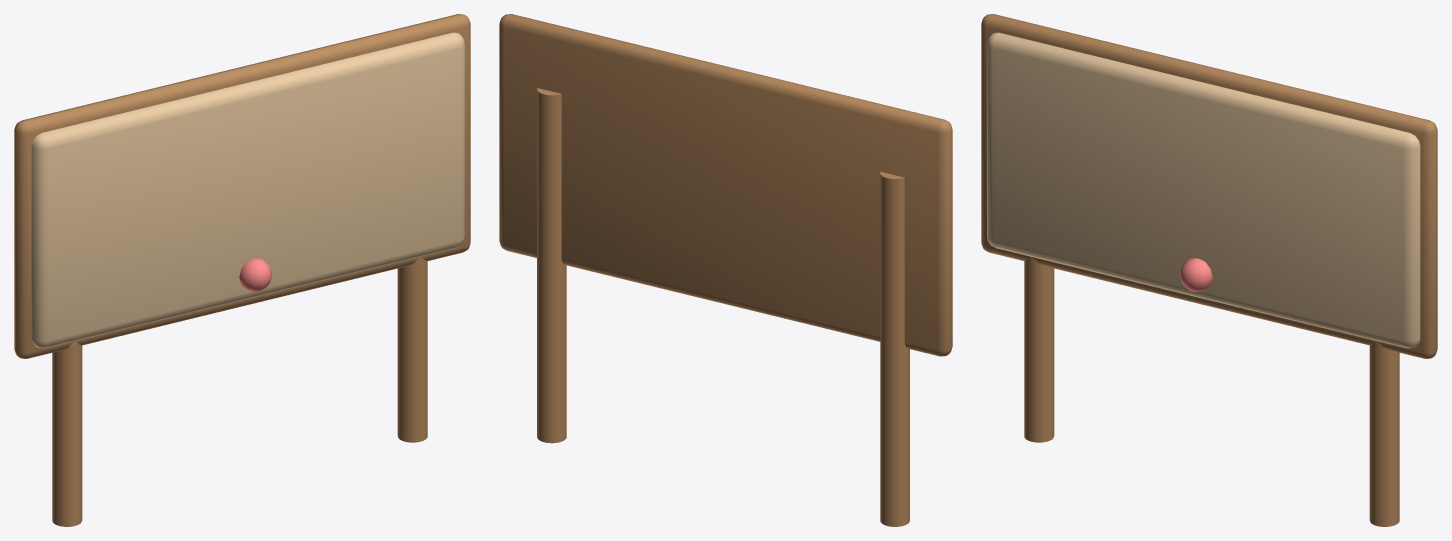
The model's file is welcome_sign.glb.
The picture shows the model from 3 angles, left to right: view 1: azimuth 30°, elevation 25°; view 2: azimuth 150°, elevation 25°; view 3: azimuth 330°, elevation 25°; orthographic projection.
Visible parts, largest first — view 1: welcome_sign; view 2: welcome_sign; view 3: welcome_sign.
Boxes of the visible parts, <box> form: welcome_sign: <box>14,14,470,526</box>; welcome_sign: <box>499,14,952,526</box>; welcome_sign: <box>981,14,1437,526</box>.
Size of the model in its own units: 2.1 by 1.82 by 0.25.
